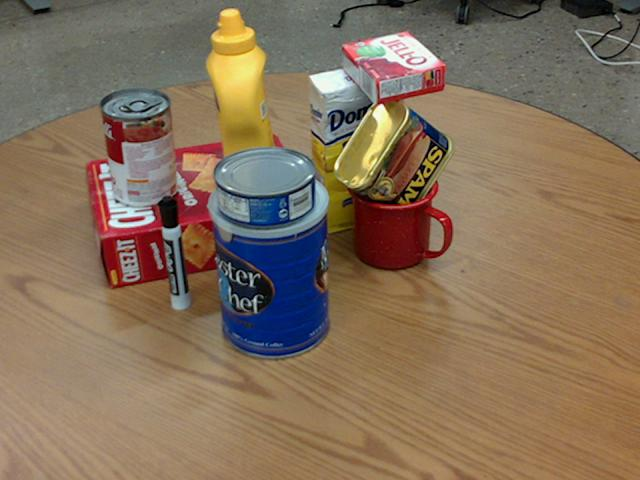cracker_box: (88, 136, 312, 288)
gelatin_box: (341, 32, 445, 103)
large_marker: (159, 196, 191, 310)
master_chef_can: (206, 166, 330, 357)
mug: (349, 162, 453, 270)
mustard_bottle: (206, 9, 282, 211)
potted_meat_can: (332, 96, 453, 222)
sugar_box: (309, 60, 405, 236)
tomato_soup_can: (100, 88, 176, 207)
tuna_fish_can: (212, 145, 315, 226)
